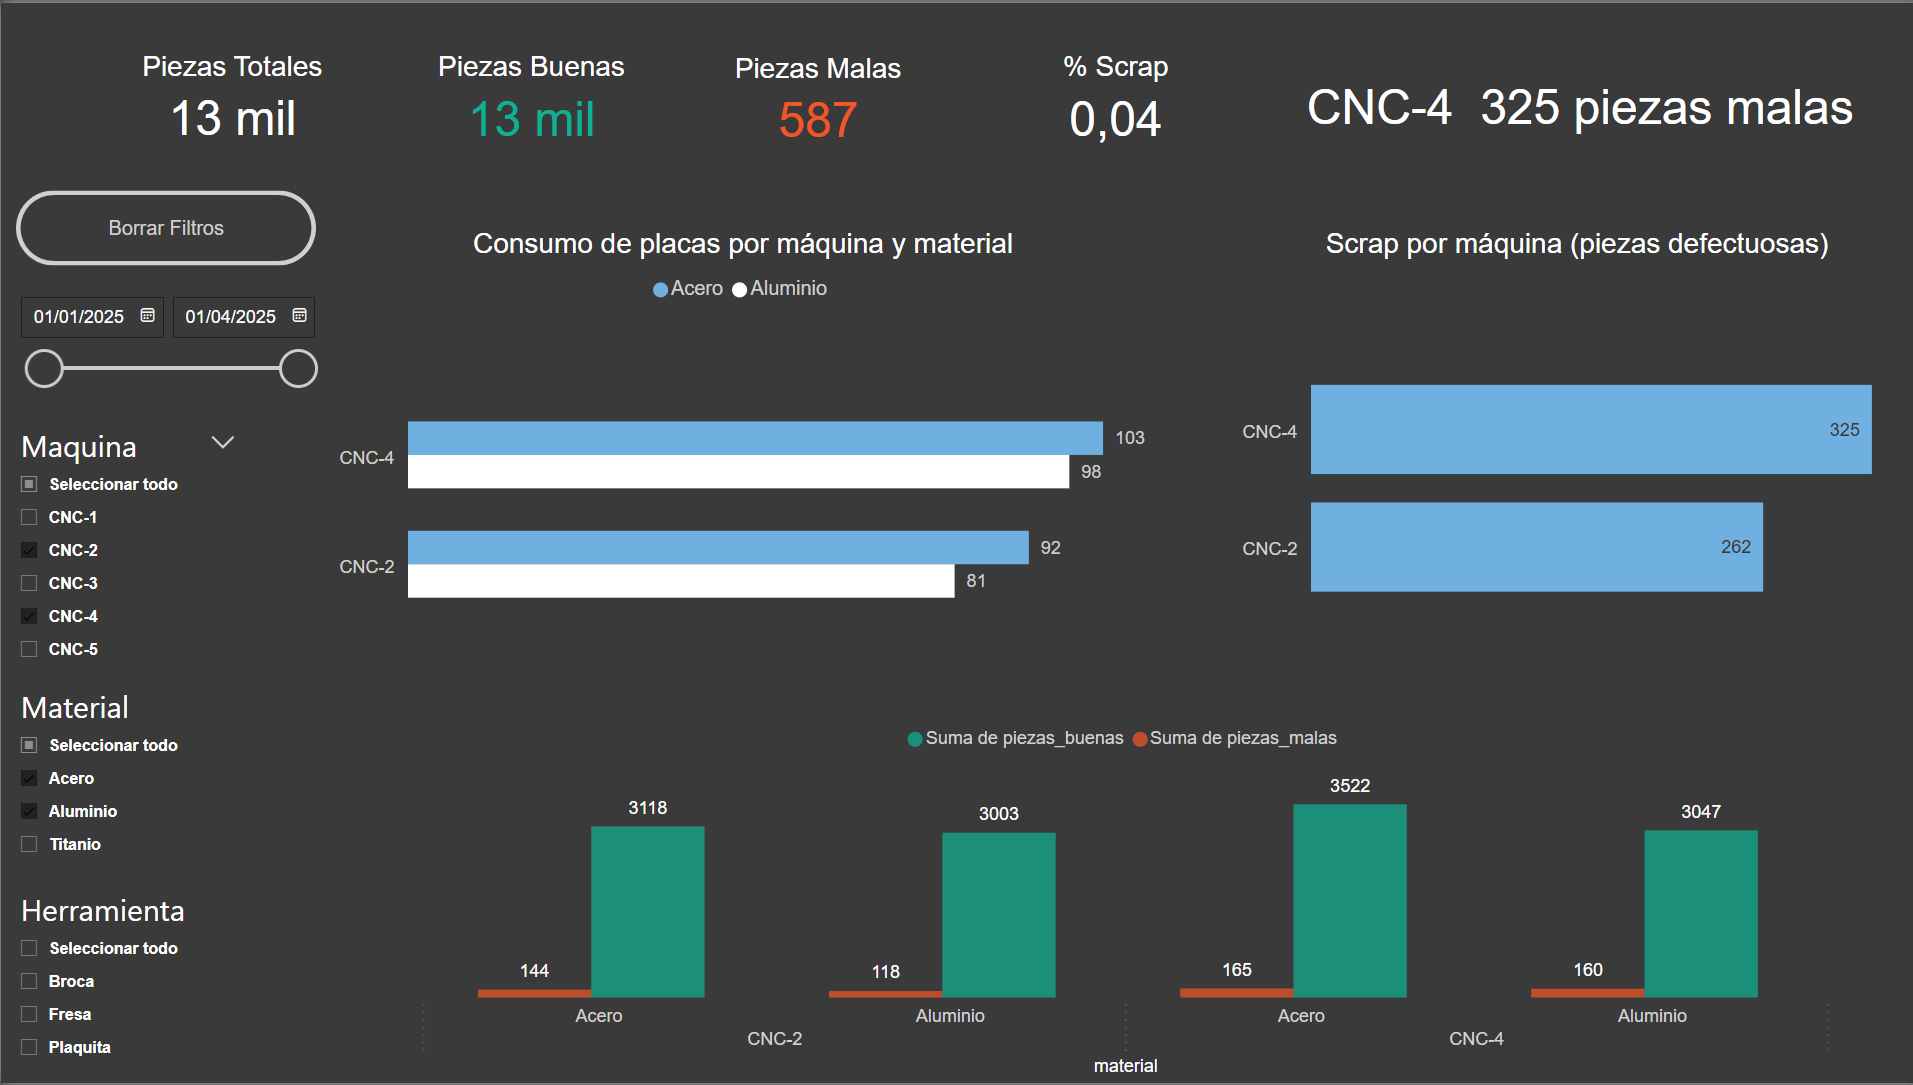

The page's visual inventory and layout, read from the dashboard file:
{"tool":"powerbi","page":{"name":"Página 1","canvas":[1280,720],"ordinal":0},"visuals":[{"type":"clusteredColumnChart","fields":{"Category":["dim_maquinas.nombre_maquina","dim_piezas.material"],"Y":["Sum(fact_produccion.piezas_buenas)","Sum(fact_produccion.piezas_malas)"]},"box":[250.9,471.1,1028.8,248.8],"z":0},{"type":"slicer","title":"Tipo de herramienta","fields":{"Values":["dim_herramientas.tipo_herramienta"]},"box":[0,285.2,167.7,130.7],"z":1000},{"type":"slicer","title":"Nombre de maquina","fields":{"Values":["dim_maquinas.nombre_maquina"]},"box":[0,415.9,144,169.8],"z":2000},{"type":"slicer","fields":{"Values":["dim_piezas.material"]},"box":[0,585.7,136.3,134.2],"z":3000},{"type":"actionButton","box":[10,125,200,50],"z":4000},{"type":"card","title":"Piezas Totales","fields":{"Values":["fact_produccion.Piezas Totales"]},"box":[56.7,31.5,194.5,67.7],"z":5000},{"type":"card","title":"Piezas Buenas","fields":{"Values":["Sum(fact_produccion.piezas_buenas)"]},"box":[251,32,205,67.7],"z":6000},{"type":"card","title":"Piezas Malas","fields":{"Values":["Sum(fact_produccion.piezas_malas)"]},"box":[455.9,32.6,177.4,67],"z":7000},{"type":"card","title":"% Scrap","fields":{"Values":["fact_produccion.Scrap %"]},"box":[633.3,32,220.1,67.7],"z":8000},{"type":"barChart","title":"Scrap Por Maquina","fields":{"Category":["dim_maquinas.nombre_maquina"],"Y":["fact_produccion.Scrap por pieza"]},"box":[821.3,209.7,458.5,261.4],"z":9000},{"type":"clusteredBarChart","title":"Placas Usadas","fields":{"Y":["Sum(fact_produccion.placas_usadas)"],"Category":["dim_maquinas.nombre_maquina"],"Series":["dim_piezas.material"]},"box":[199.9,209.7,570.3,261.4],"z":10000},{"type":"card","fields":{"Values":["fact_produccion.Máquina con más scrap"]},"box":[853.4,32.9,398.4,67.8],"z":11000},{"type":"slicer","fields":{"Values":["fact_produccion.fecha"]},"box":[0,195,219.5,90.2],"z":11001}]}

Visuals, with their boxes in screenshot pixels (x1, y1, x2, y2), scaled from the page's 1280x720 canvas onto the 1913x1085 screenshot:
clusteredColumnChart - dim_maquinas.nombre_maquina x dim_piezas.material: select_region(375, 710, 1912, 1084)
"Tipo de herramienta" slicer: select_region(0, 430, 251, 627)
"Nombre de maquina" slicer: select_region(0, 627, 215, 883)
slicer - dim_piezas.material: select_region(0, 883, 204, 1084)
actionButton: select_region(15, 188, 314, 264)
"Piezas Totales" card: select_region(85, 47, 375, 149)
"Piezas Buenas" card: select_region(375, 48, 682, 150)
"Piezas Malas" card: select_region(681, 49, 946, 150)
"% Scrap" card: select_region(946, 48, 1275, 150)
"Scrap Por Maquina" barChart: select_region(1227, 316, 1912, 710)
"Placas Usadas" clusteredBarChart: select_region(299, 316, 1151, 710)
card - fact_produccion.Máquina con más scrap: select_region(1275, 50, 1871, 152)
slicer - fact_produccion.fecha: select_region(0, 294, 328, 430)
